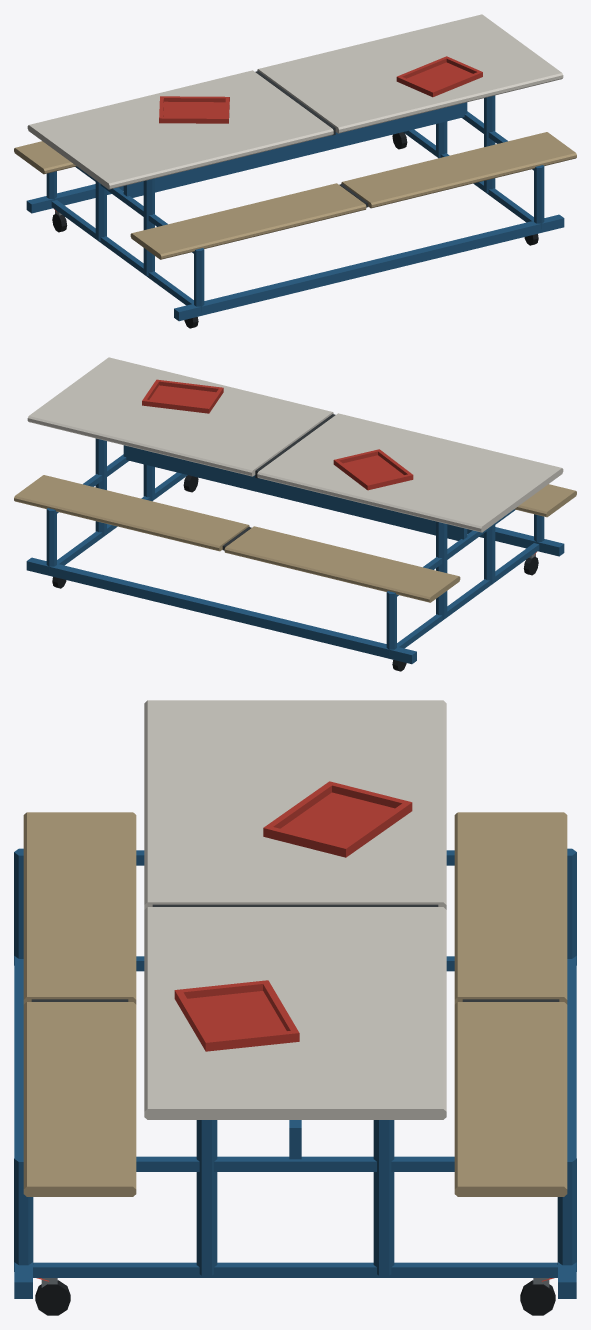
Rendered from folding-dining-table-7b68ce.glb.
3 views of the same model, one above another, from view 1: azimuth 30°, elevation 25°; view 2: azimuth 150°, elevation 25°; view 3: azimuth 270°, elevation 25° (orthographic). The views are drawn at different scales.
Visible parts, largest first — view 1: frame, top-half-l, top-half-r, bench-plank-front, tray-mesh-r, tray-mesh-l, bench-plank-back; view 2: frame, top-half-l, top-half-r, bench-plank-back, tray-mesh-r, tray-mesh-l, bench-plank-front; view 3: top-half-r, top-half-l, bench-plank-front, bench-plank-back, frame, tray-mesh-l, tray-mesh-r, wheel-mesh-wheel-fl, wheel-mesh-wheel-rl.
Boxes of the visible parts, <box> form: frame: <box>26,71,564,321</box>; top-half-l: <box>27,70,333,189</box>; top-half-r: <box>257,14,563,133</box>; bench-plank-front: <box>130,132,576,259</box>; tray-mesh-r: <box>396,56,482,97</box>; tray-mesh-l: <box>159,96,229,123</box>; bench-plank-back: <box>14,141,76,174</box>; frame: <box>26,414,564,664</box>; top-half-l: <box>257,413,563,532</box>; top-half-r: <box>27,357,333,476</box>; bench-plank-back: <box>14,475,460,602</box>; tray-mesh-r: <box>142,379,223,413</box>; tray-mesh-l: <box>333,449,413,490</box>; bench-plank-front: <box>514,484,576,517</box>; top-half-r: <box>144,907,446,1119</box>; top-half-l: <box>144,700,446,909</box>; bench-plank-front: <box>23,812,136,1196</box>; bench-plank-back: <box>454,812,567,1196</box>; frame: <box>14,848,576,1298</box>; tray-mesh-l: <box>263,781,412,857</box>; tray-mesh-r: <box>174,980,299,1051</box>; wheel-mesh-wheel-fl: <box>35,1280,70,1315</box>; wheel-mesh-wheel-rl: <box>520,1280,555,1315</box>.
Bounding box in the file's own units: 2.4 × 0.724 × 1.4.
